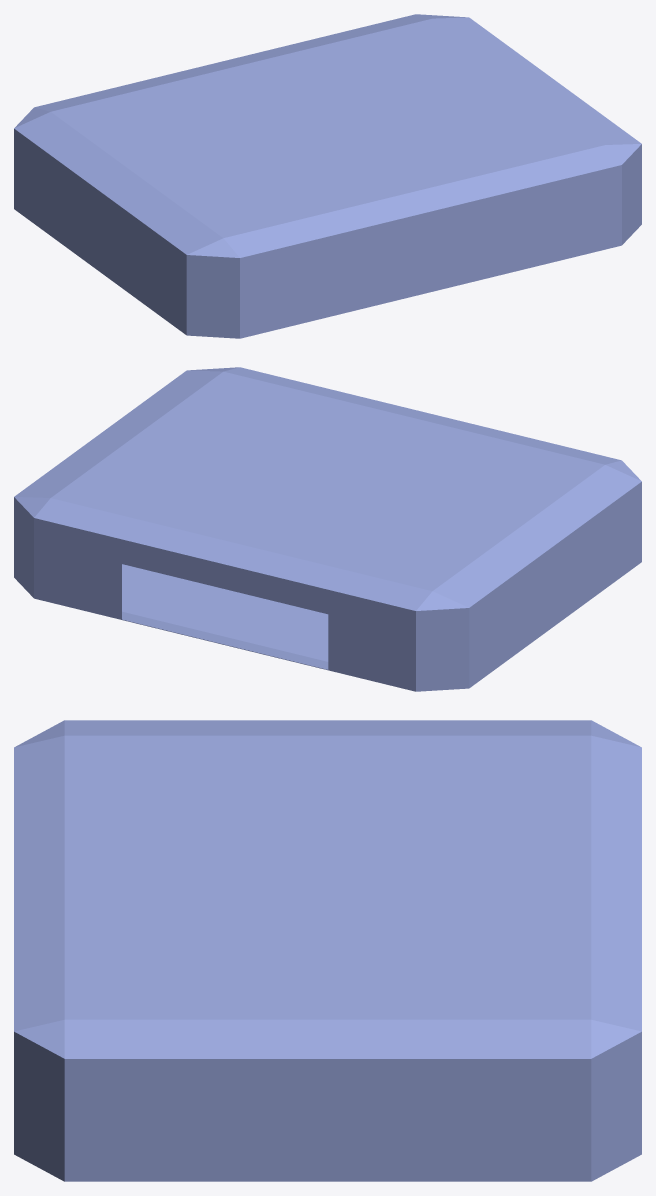
The model's file is compartimentoroda2.fbx.
3 renders of one model, top to bottom at view 1: azimuth 30°, elevation 25°; view 2: azimuth 150°, elevation 25°; view 3: azimuth 270°, elevation 25°, orthographic. The views are drawn at different scales.
Parts seen in each view (by area): view 1: Cube; view 2: Cube; view 3: Cube.
Part boxes in pixels (x1=…): Cube: x1=14, y1=14, x2=641, y2=338; Cube: x1=14, y1=367, x2=641, y2=691; Cube: x1=14, y1=720, x2=641, y2=1181.
Bounding box in the file's own units: 457 × 92.19 × 358.
